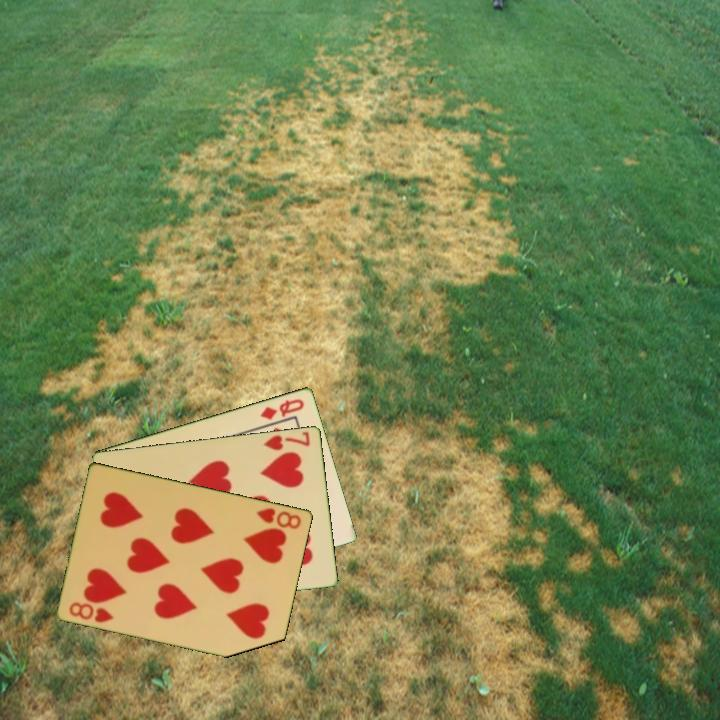7h: (260, 428, 313, 453)
8h: (252, 504, 304, 532), (66, 598, 117, 625)
Qd: (257, 395, 307, 422)
